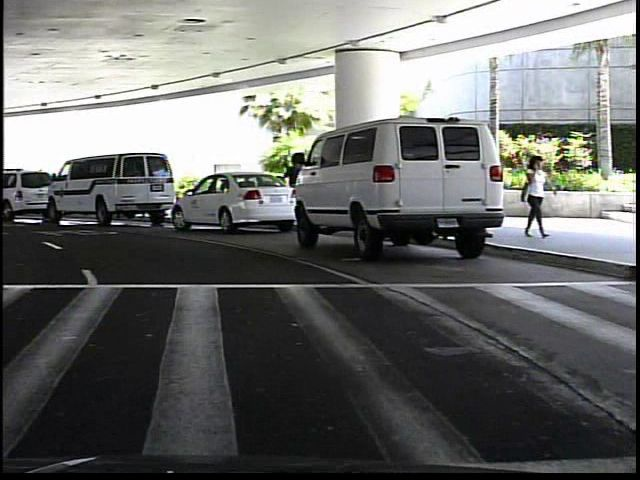person: (517, 148, 555, 243)
